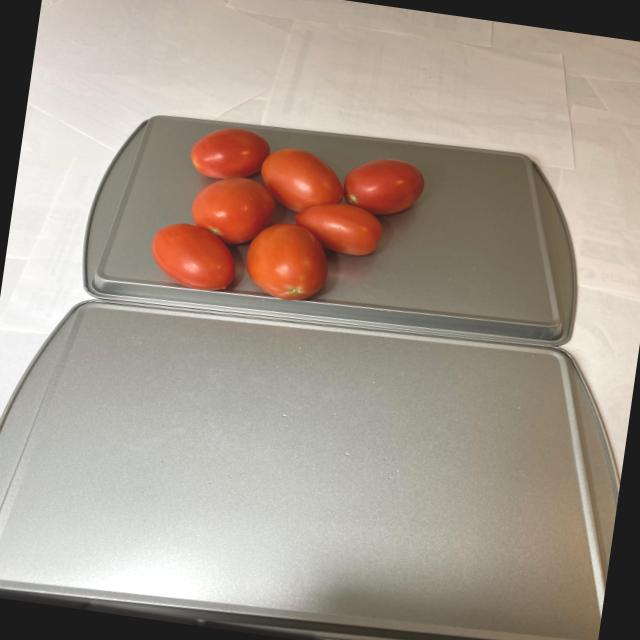tomato: (142, 118, 427, 320)
